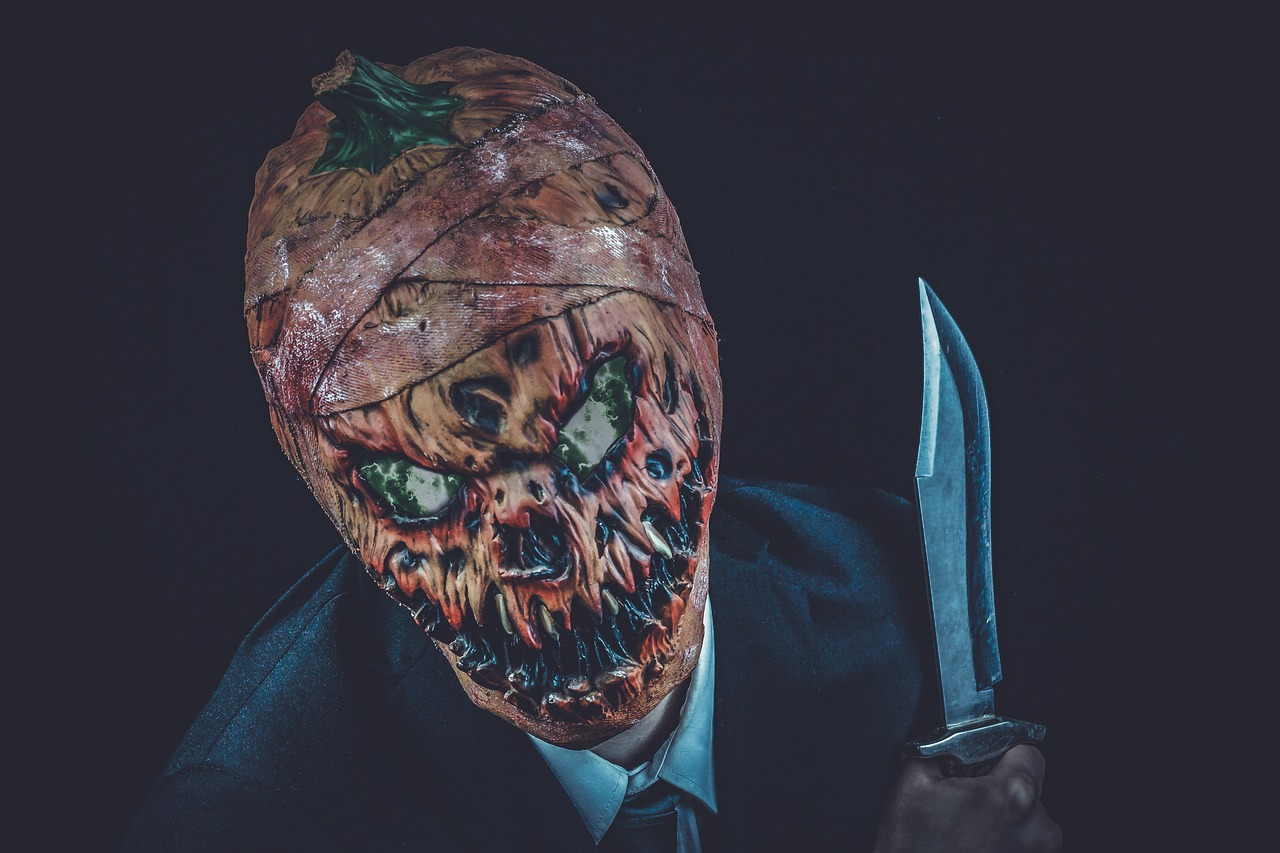knife: (890, 268, 1069, 795)
